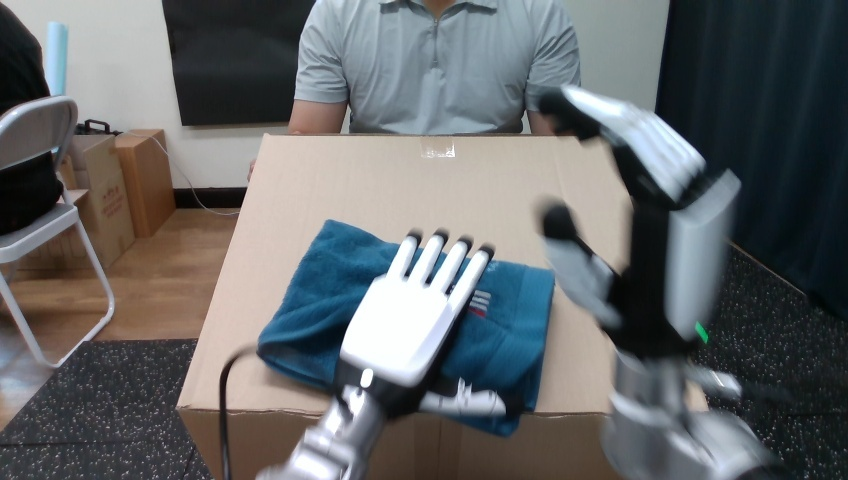left robot hand: (539, 85, 782, 478), (257, 229, 505, 479)
